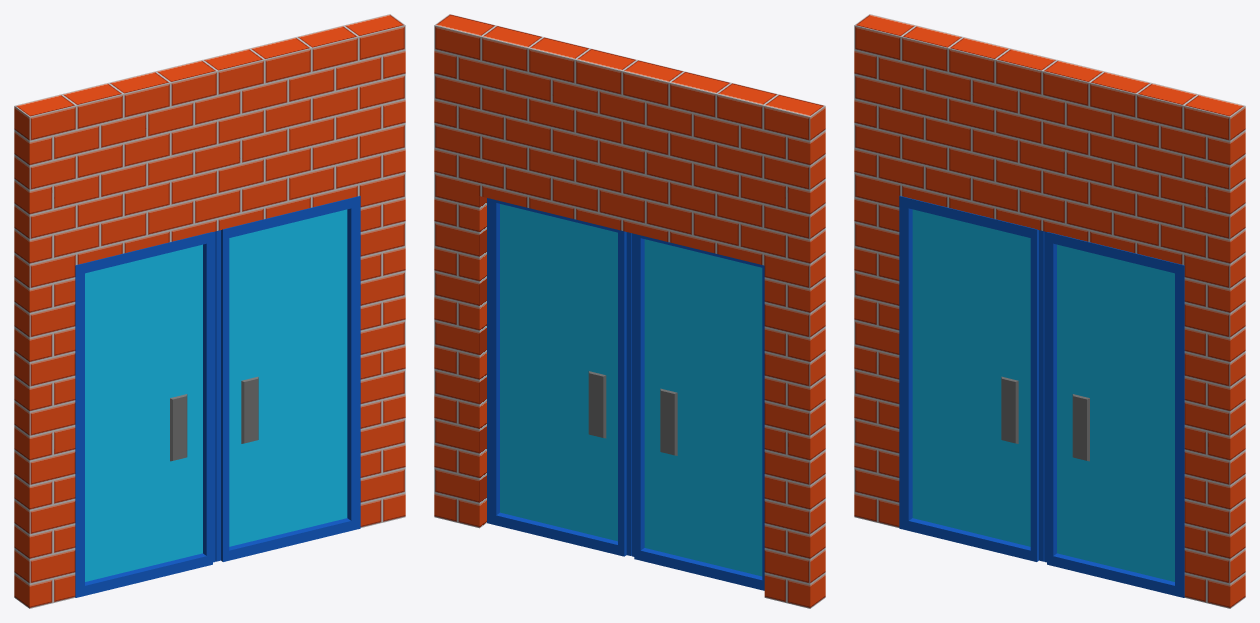
Rendered from wall_door 1.fbx.
3 views of the same model, side by side, from view 1: azimuth 30°, elevation 25°; view 2: azimuth 150°, elevation 25°; view 3: azimuth 330°, elevation 25° (orthographic).
Parts seen in each view (by area): view 1: wall_door, Door_02, Door_01; view 2: wall_door, Door_02, Door_01; view 3: wall_door, Door_01, Door_02.
Part boxes in pixels (x1,y1,x2,y2): wall_door: (14, 14, 405, 608); Door_02: (215, 196, 360, 561); Door_01: (75, 231, 215, 597); wall_door: (434, 14, 825, 608); Door_02: (487, 198, 631, 556); Door_01: (632, 233, 764, 590); wall_door: (854, 14, 1245, 608); Door_01: (899, 196, 1044, 561); Door_02: (1044, 231, 1184, 597).
Bounding box in the file's own units: 200 × 250 × 14.59.
2 materials, 2 textured.
